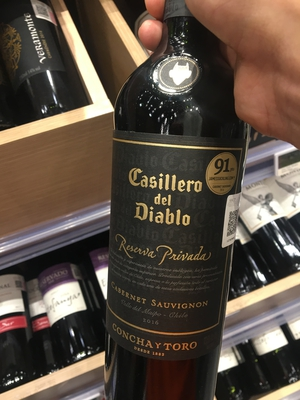casillero del diablo reserva privada cabernet sauvignon: (94, 7, 257, 400)
